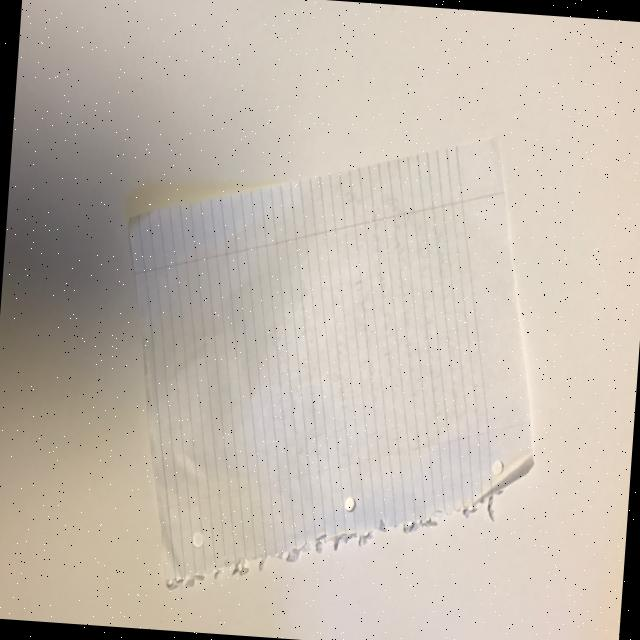paper: (101, 110, 557, 612)
